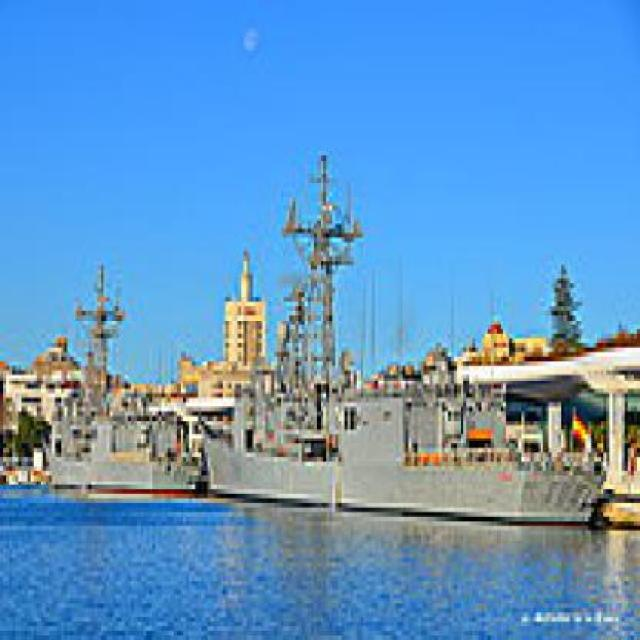warship2: (187, 184, 373, 513), (321, 321, 601, 527), (52, 252, 205, 504)
